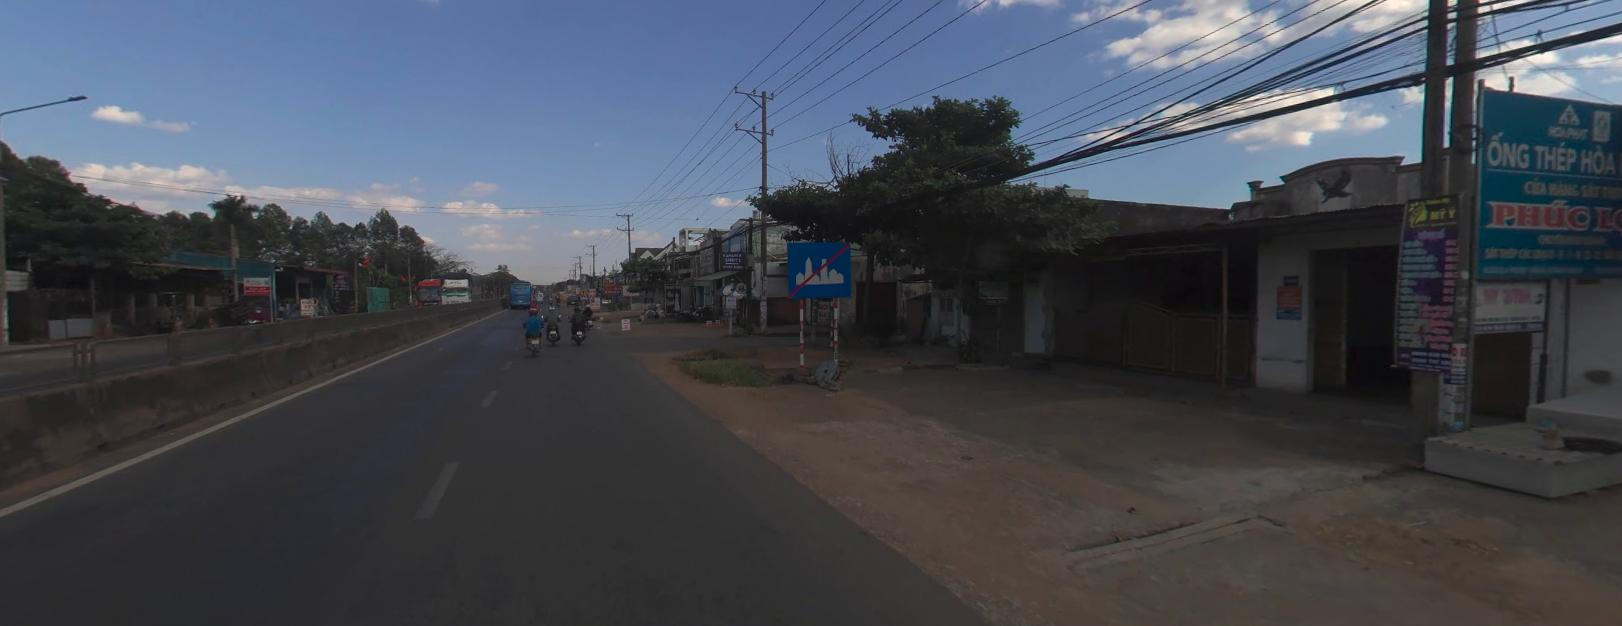Nguy hiem: (578, 286, 585, 294)
